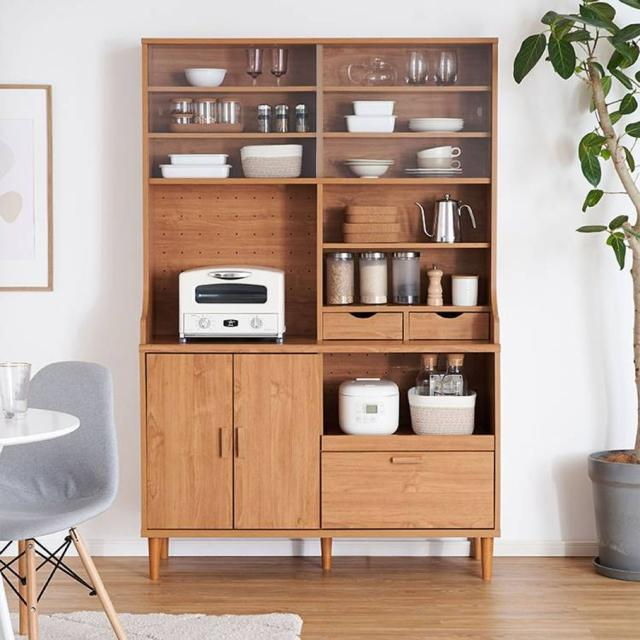vintage shelf: (136, 27, 502, 587)
